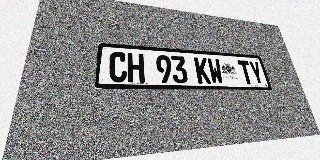3: (171, 56, 188, 83)
9: (156, 55, 173, 83)
C: (109, 51, 127, 82)
H: (127, 53, 145, 83)
K: (194, 57, 211, 84)
T: (237, 60, 254, 84)
W: (207, 58, 224, 84)
Y: (248, 61, 265, 84)
